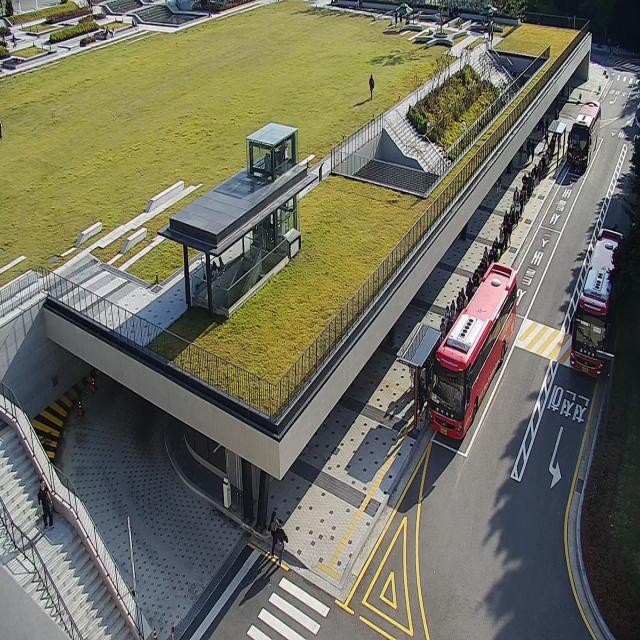queue: (416, 125, 560, 428)
